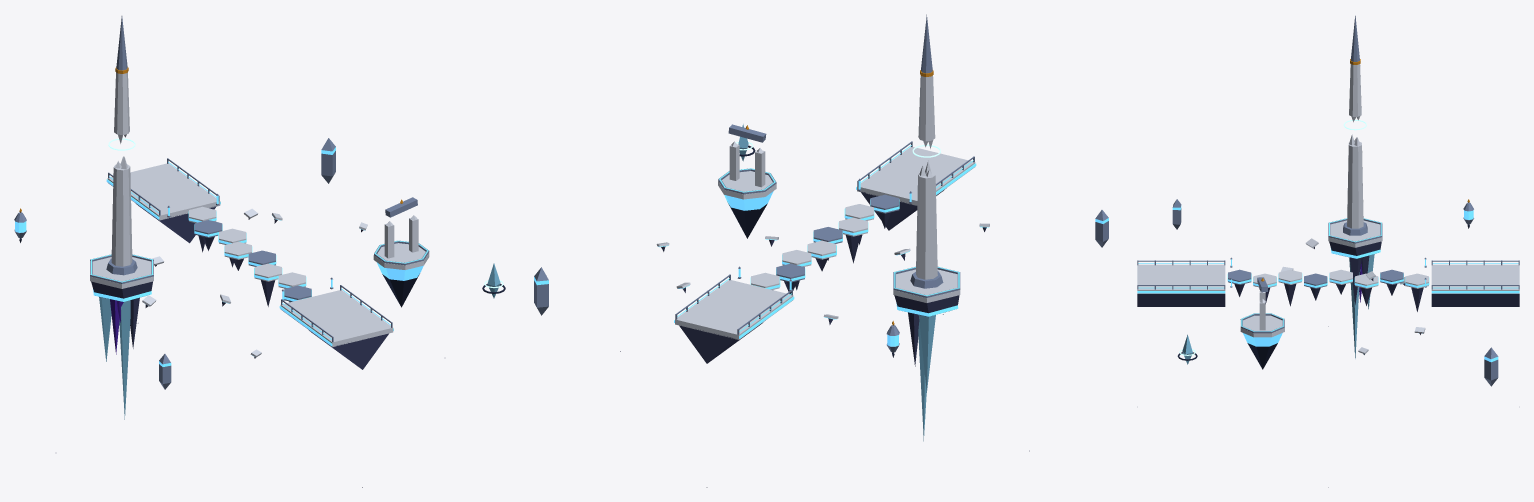
File: chunk_path_shattered.fbx
The picture shows the model from 3 angles, left to right: view 1: azimuth 30°, elevation 25°; view 2: azimuth 150°, elevation 25°; view 3: azimuth 270°, elevation 25°; orthographic projection. The views are drawn at different scales.
Visible parts, largest first — view 1: chunk_path_shattered; view 2: chunk_path_shattered; view 3: chunk_path_shattered.
Boxes of the visible parts, x1,y1,x2,y2 form: chunk_path_shattered: (14, 16, 505, 487); chunk_path_shattered: (534, 14, 1108, 487); chunk_path_shattered: (1137, 15, 1519, 487).
Size of the model in its own units: 256 by 256 by 256.
